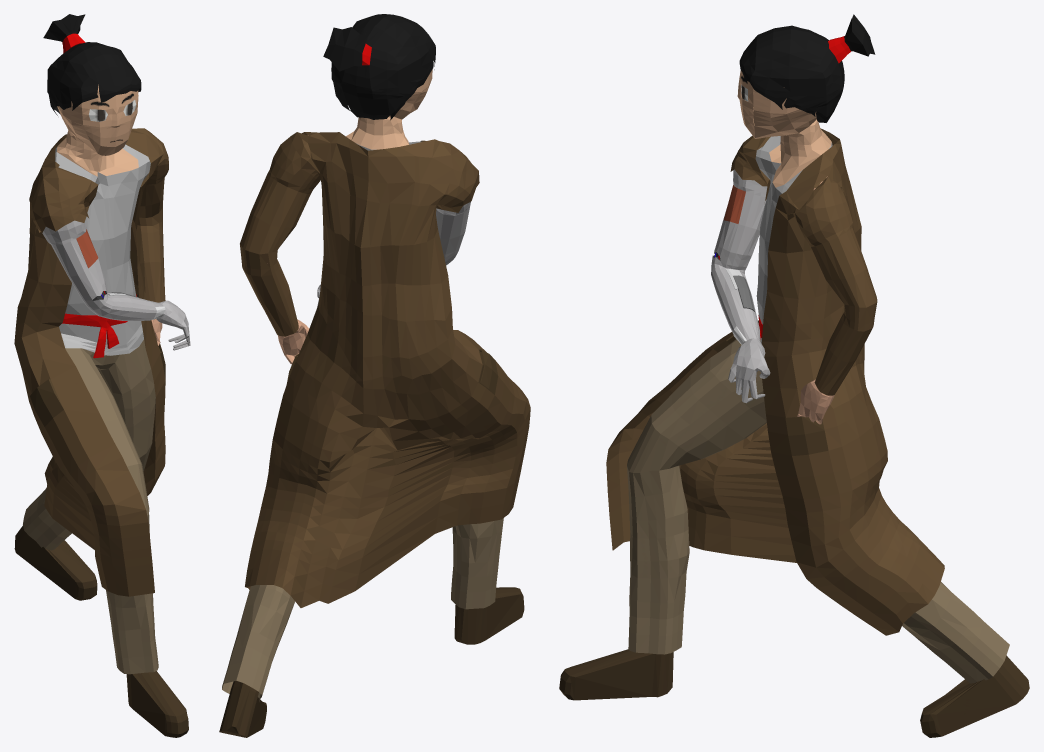
File: One_DR_000011.obj
The picture shows the model from 3 angles, left to right: view 1: azimuth 30°, elevation 25°; view 2: azimuth 150°, elevation 25°; view 3: azimuth 270°, elevation 25°; orthographic projection. The views are drawn at different scales.
Parts seen in each view (by area): view 1: Hair_Cube.004; view 2: Hair_Cube.004; view 3: Hair_Cube.004.
Boxes of the visible parts, x1,y1,x2,y2 form: Hair_Cube.004: (14, 14, 190, 737); Hair_Cube.004: (219, 14, 530, 737); Hair_Cube.004: (559, 14, 1029, 737).
Size of the model in its own units: 1.09 by 3.68 by 2.28.
